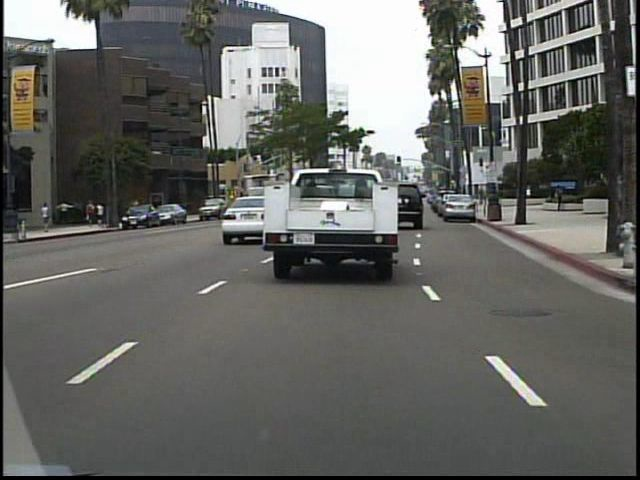person: (43, 199, 56, 236), (553, 183, 566, 214)
